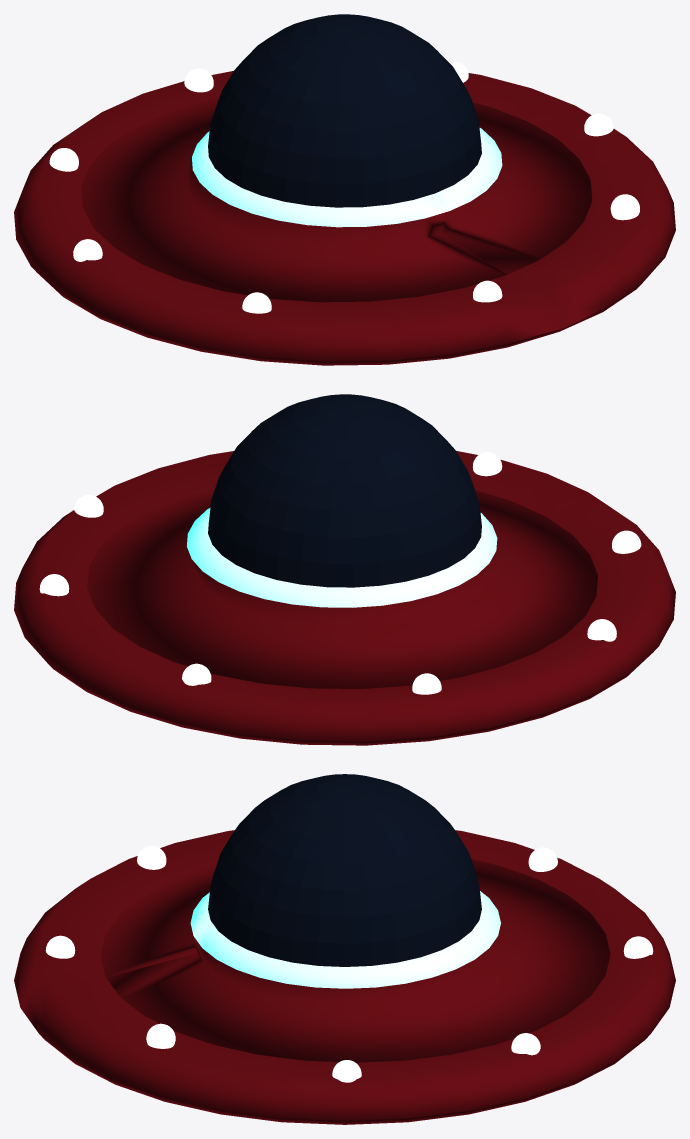
The model's file is ufo.gltf.
3 renders of one model, top to bottom at view 1: azimuth 30°, elevation 25°; view 2: azimuth 150°, elevation 25°; view 3: azimuth 270°, elevation 25°, orthographic.
Parts seen in each view (by area): view 1: body, glass, Sphere.002, Sphere.005, Sphere.006, Sphere.007, Sphere.009, Sphere, Sphere.008; view 2: body, glass, Sphere, Sphere.008, Sphere.007, Sphere.009, Sphere.004, Sphere.005, Sphere.006; view 3: body, glass, Sphere.002, Sphere.006, Sphere.008, Sphere, Sphere.005, Sphere.004, Sphere.009.
Boxes of the visible parts, left/top/right/bottom form: body: left=14, top=71, right=675, bottom=365; glass: left=208, top=14, right=481, bottom=207; Sphere.002: left=610, top=194, right=639, bottom=220; Sphere.005: left=184, top=68, right=213, bottom=92; Sphere.006: left=49, top=148, right=78, bottom=171; Sphere.007: left=73, top=239, right=102, bottom=261; Sphere.009: left=584, top=113, right=613, bottom=136; Sphere: left=473, top=280, right=502, bottom=302; Sphere.008: left=242, top=292, right=271, bottom=313; body: left=14, top=451, right=675, bottom=745; glass: left=208, top=394, right=481, bottom=587; Sphere: left=472, top=452, right=502, bottom=476; Sphere.008: left=612, top=530, right=641, bottom=553; Sphere.007: left=587, top=619, right=616, bottom=641; Sphere.009: left=74, top=495, right=103, bottom=517; Sphere.004: left=39, top=574, right=69, bottom=596; Sphere.005: left=182, top=663, right=211, bottom=685; Sphere.006: left=412, top=673, right=441, bottom=694; body: left=14, top=830, right=675, bottom=1124; glass: left=208, top=774, right=481, bottom=966; Sphere.002: left=146, top=1023, right=175, bottom=1048; Sphere.006: left=528, top=847, right=557, bottom=871; Sphere.008: left=137, top=845, right=166, bottom=869; Sphere: left=45, top=935, right=75, bottom=958; Sphere.005: left=623, top=936, right=653, bottom=958; Sphere.004: left=511, top=1033, right=540, bottom=1055; Sphere.009: left=332, top=1060, right=361, bottom=1082.
Size of the model in its own units: 41.44 by 13.88 by 41.44.
